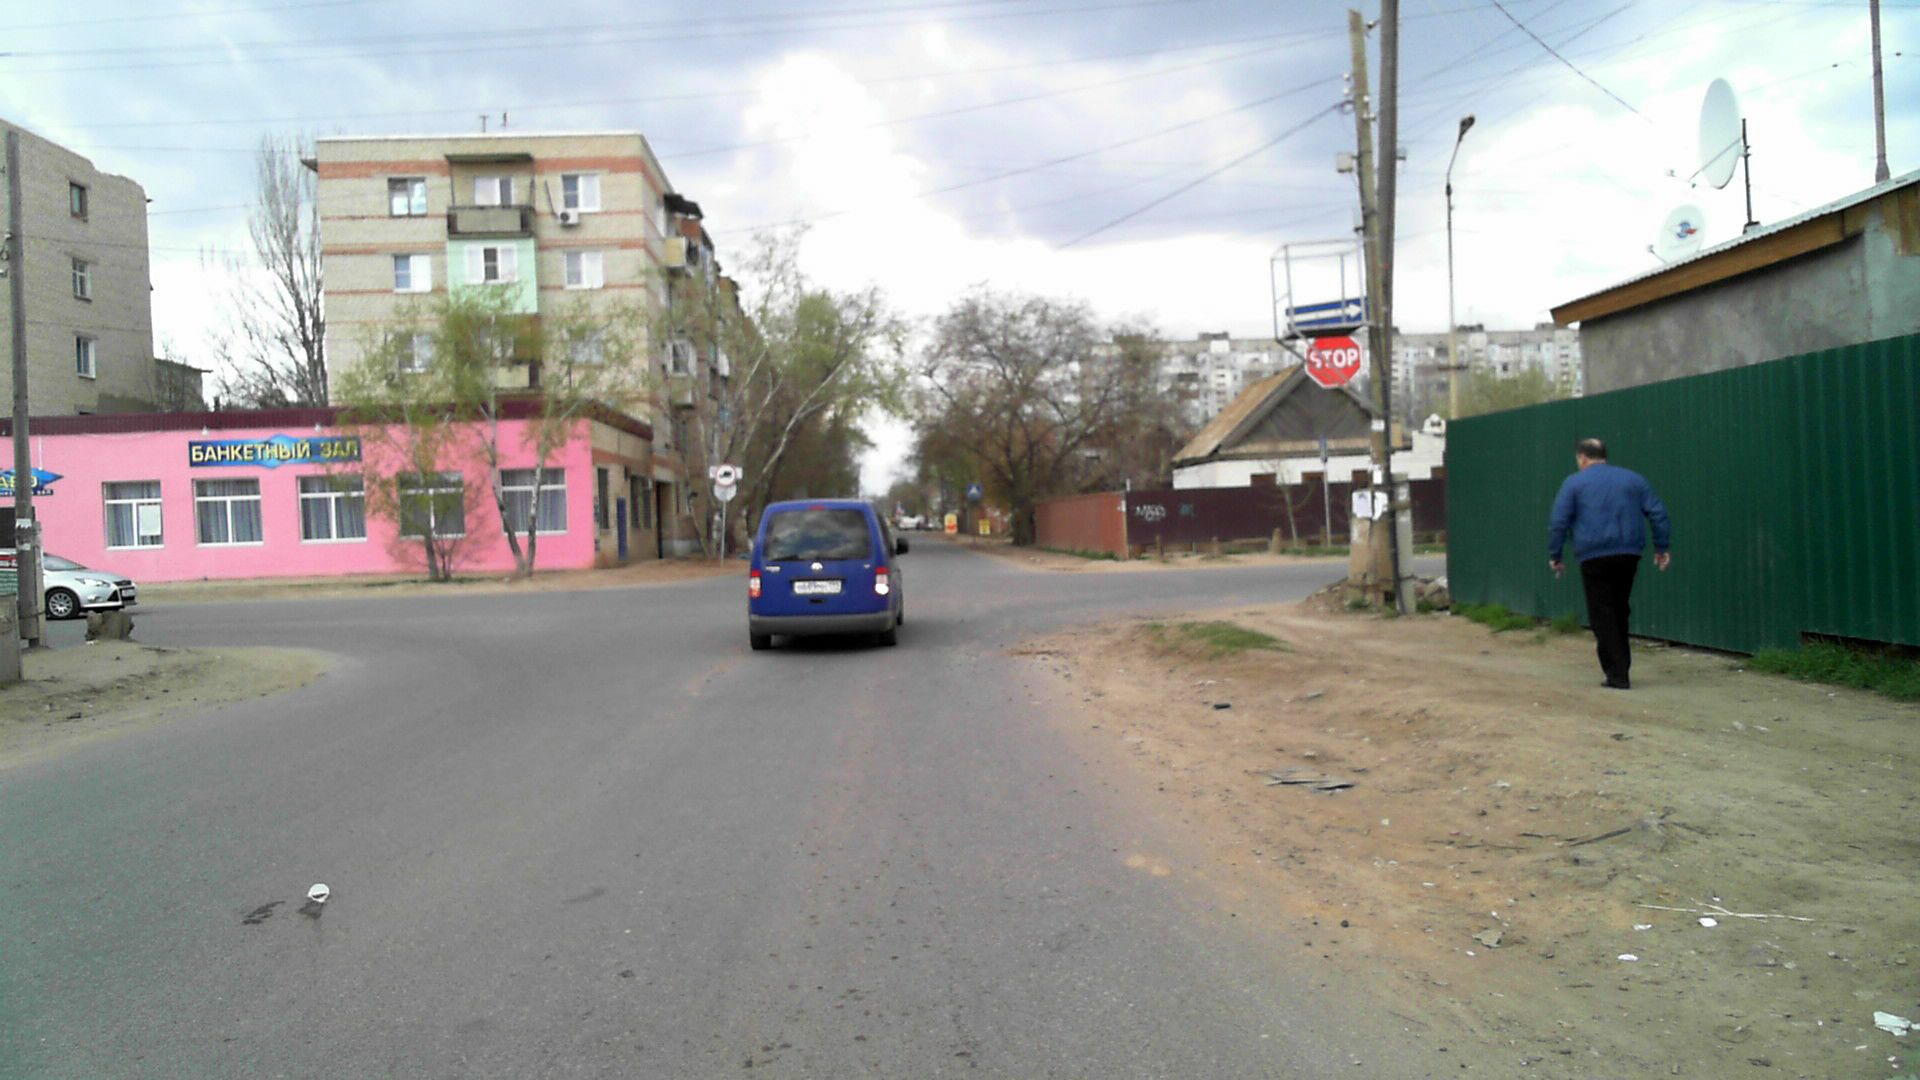One-Way Traffic: (1286, 297, 1366, 328)
